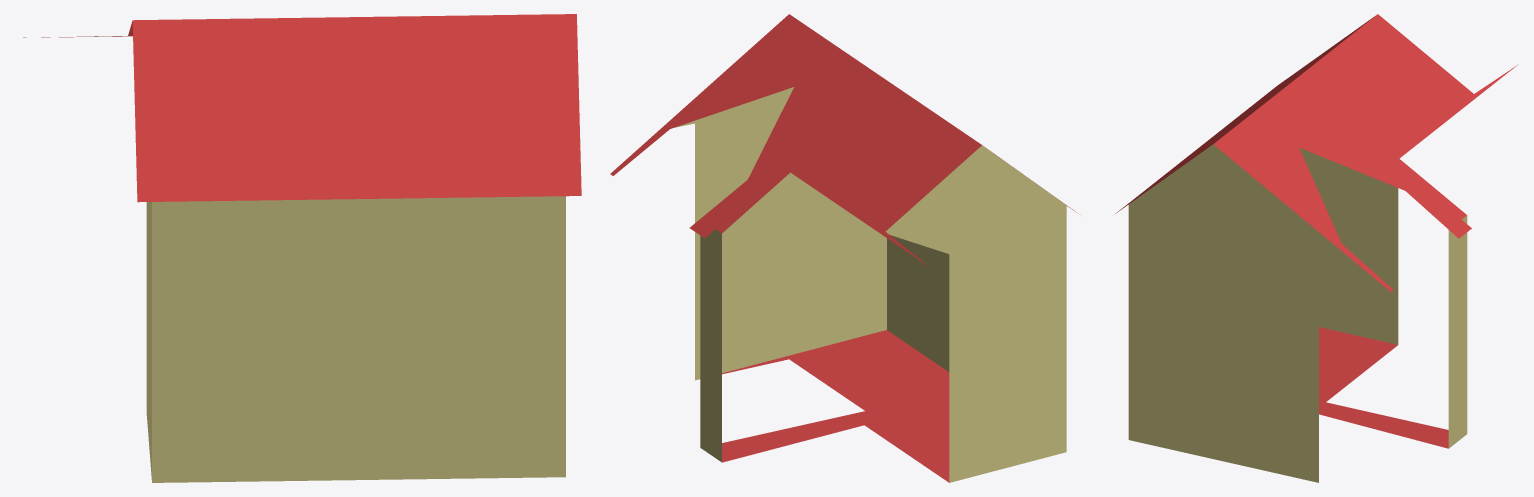
The picture shows the model from 3 angles, left to right: view 1: azimuth 30°, elevation 25°; view 2: azimuth 150°, elevation 25°; view 3: azimuth 270°, elevation 25°; orthographic projection. The views are drawn at different scales.
Size of the model in its own units: 19.14 by 17.05 by 14.81.
